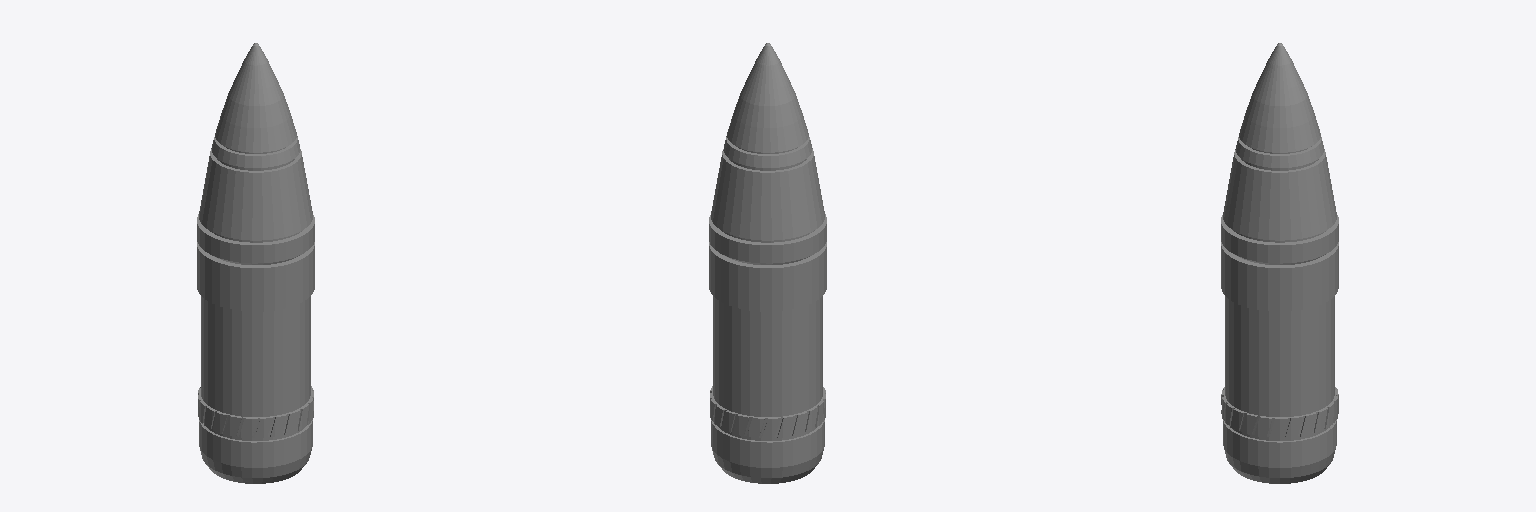
File: redkin_shell.obj
3 views of the same model, side by side, from view 1: azimuth 30°, elevation 25°; view 2: azimuth 150°, elevation 25°; view 3: azimuth 270°, elevation 25° (orthographic).
Visible parts, largest first — view 1: APCBC_shell.002_APCBC_shell.002; view 2: APCBC_shell.002_APCBC_shell.002; view 3: APCBC_shell.002_APCBC_shell.002.
Boxes of the visible parts, x1=… form: APCBC_shell.002_APCBC_shell.002: x1=197, y1=43, x2=314, y2=483; APCBC_shell.002_APCBC_shell.002: x1=709, y1=43, x2=826, y2=483; APCBC_shell.002_APCBC_shell.002: x1=1221, y1=43, x2=1338, y2=483.
Bounding box in the file's own units: 0.584 × 2.31 × 0.584.